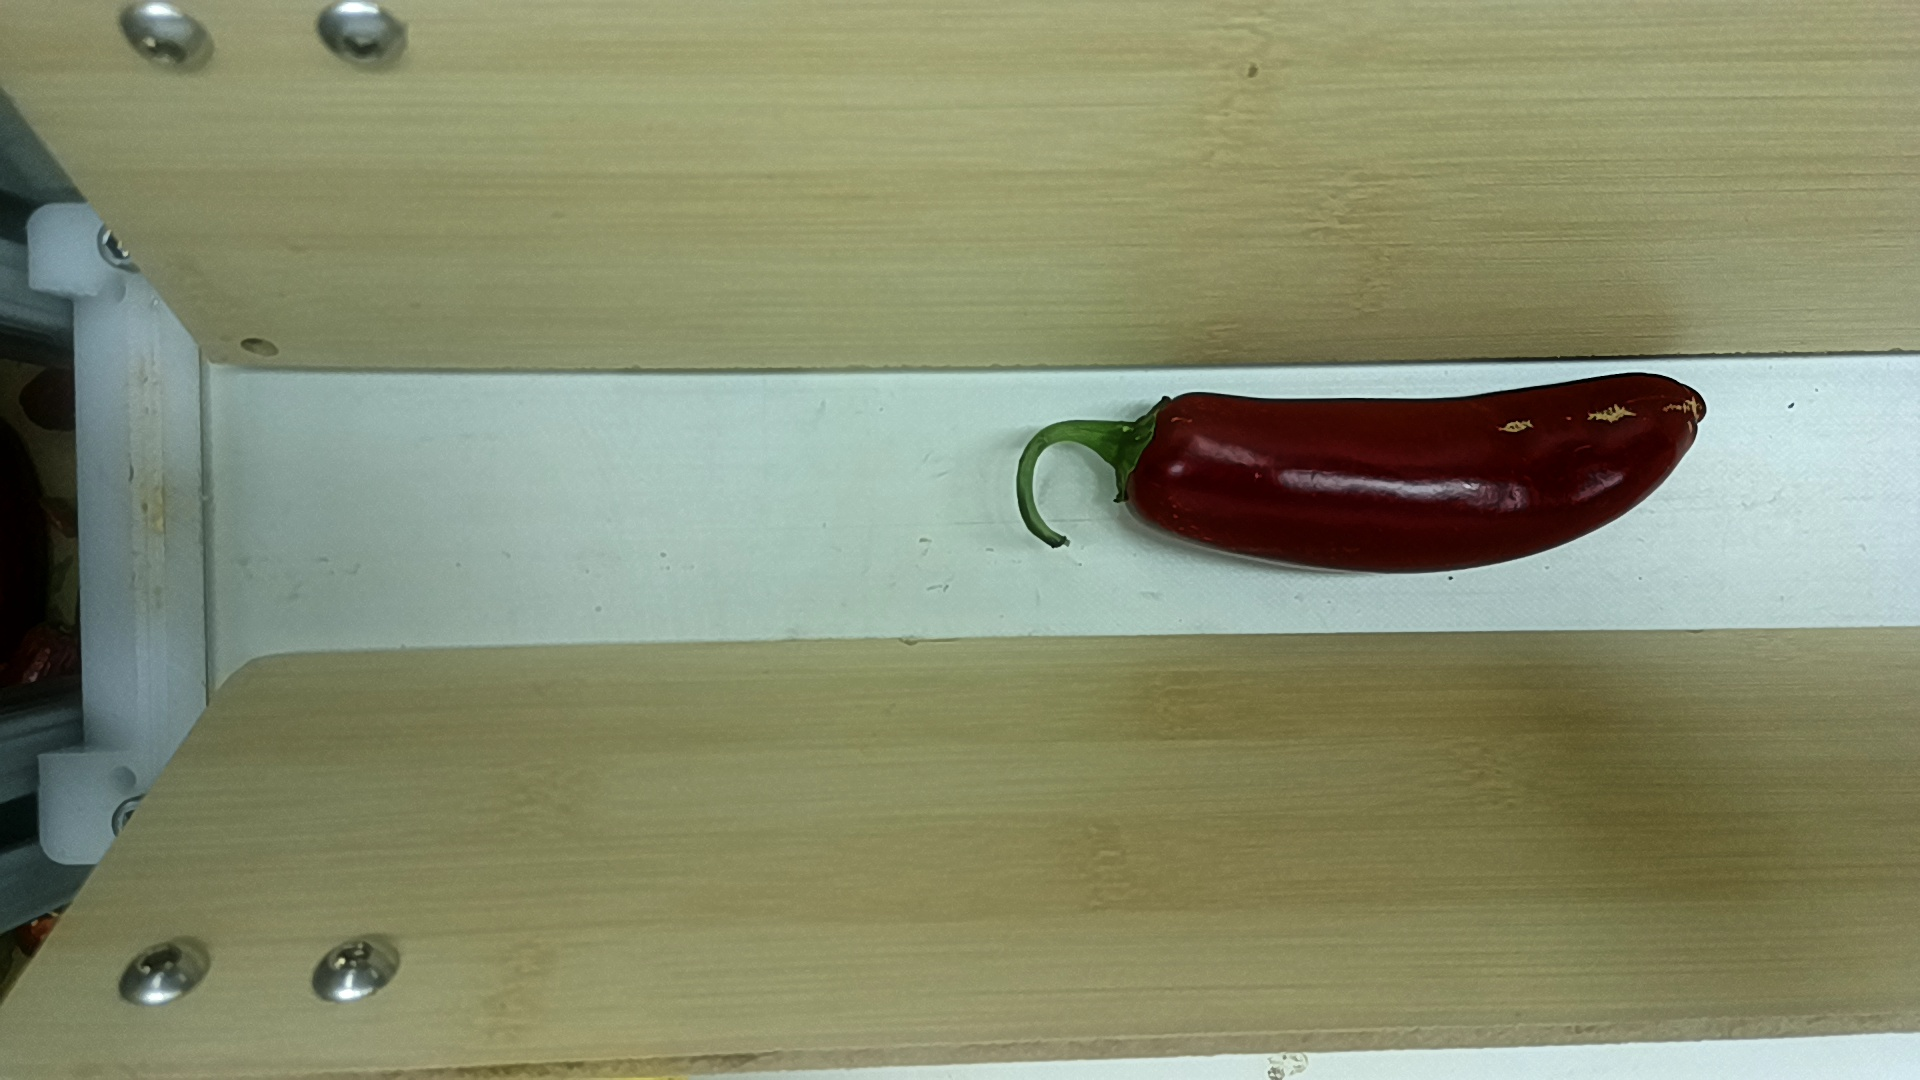Cut Point: (1109, 378, 1188, 545)
